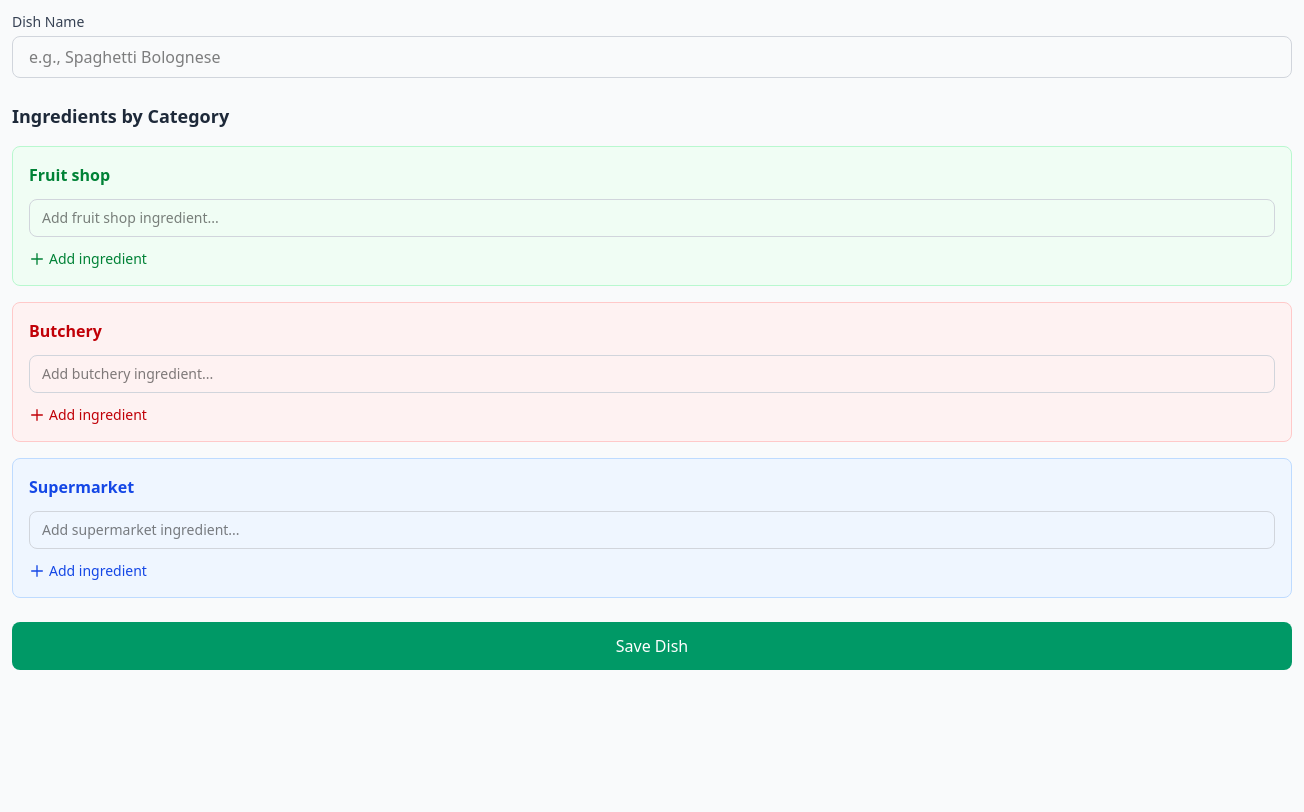
Test case: CreateDishForm › validation › shows error when submitting with empty name
The image size is (1304, 812).
Note: Add an ingredient so that's not the error
Type "Apple" into the field with placeholder "Add fruit shop ingredient...".
click(652, 218); type("Apple")  # box [29,199,1275,237]
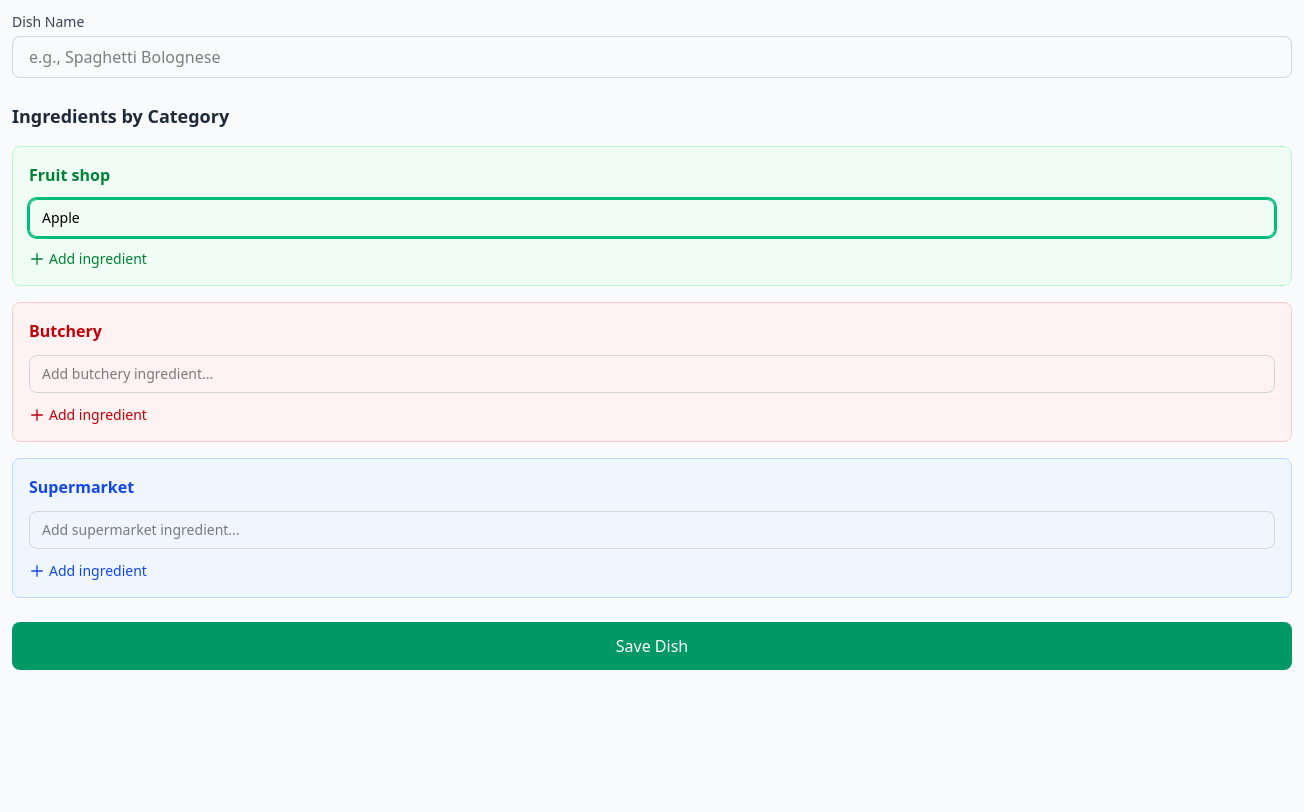
Note: Submit without a name
Click the button "Save Dish".
click(652, 646)  # box [12,622,1292,670]
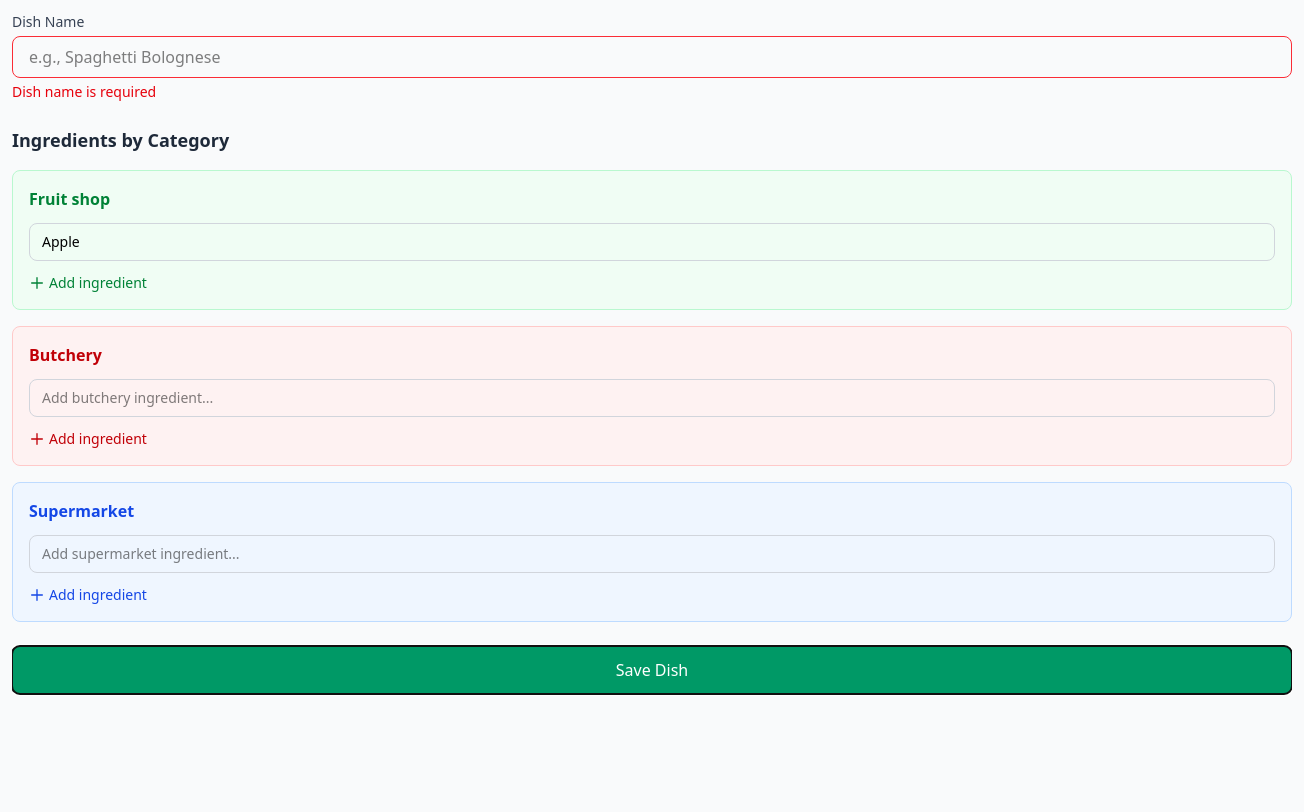
expect the text "Dish name is required" is shown: met, box [12,82,156,101]
